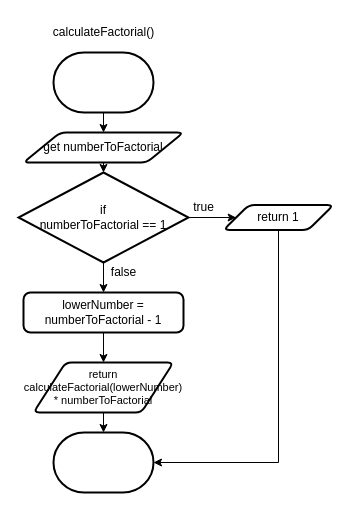
The diagram is 351 pixels wide and 510 high, and some of its shapes have lost their labels. The centre of each missing label's shape, as x and y in pixels:
"Start" goes at point 103,82.
"Stop" goes at point 103,462.
